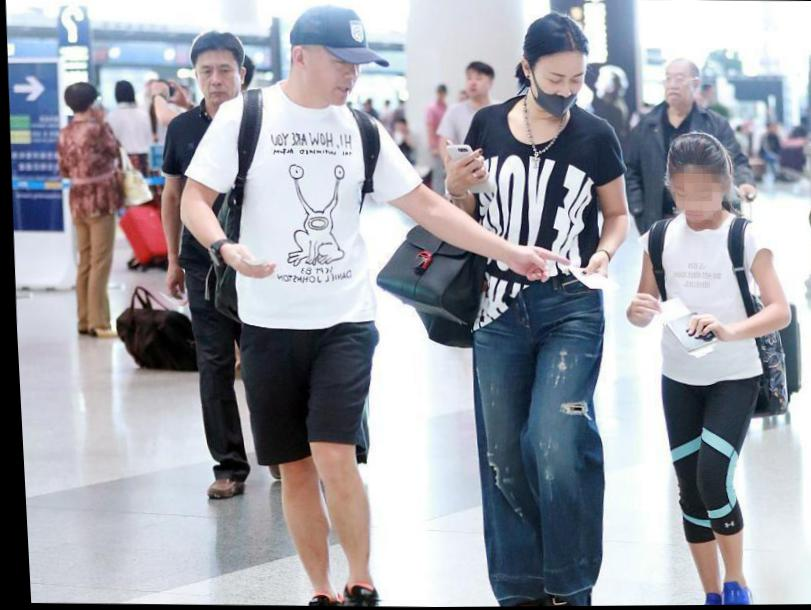NONE: (303, 49, 366, 106), (670, 174, 723, 226), (195, 56, 240, 103), (661, 71, 694, 105), (462, 70, 486, 101)
WRONG: (530, 60, 587, 115)
